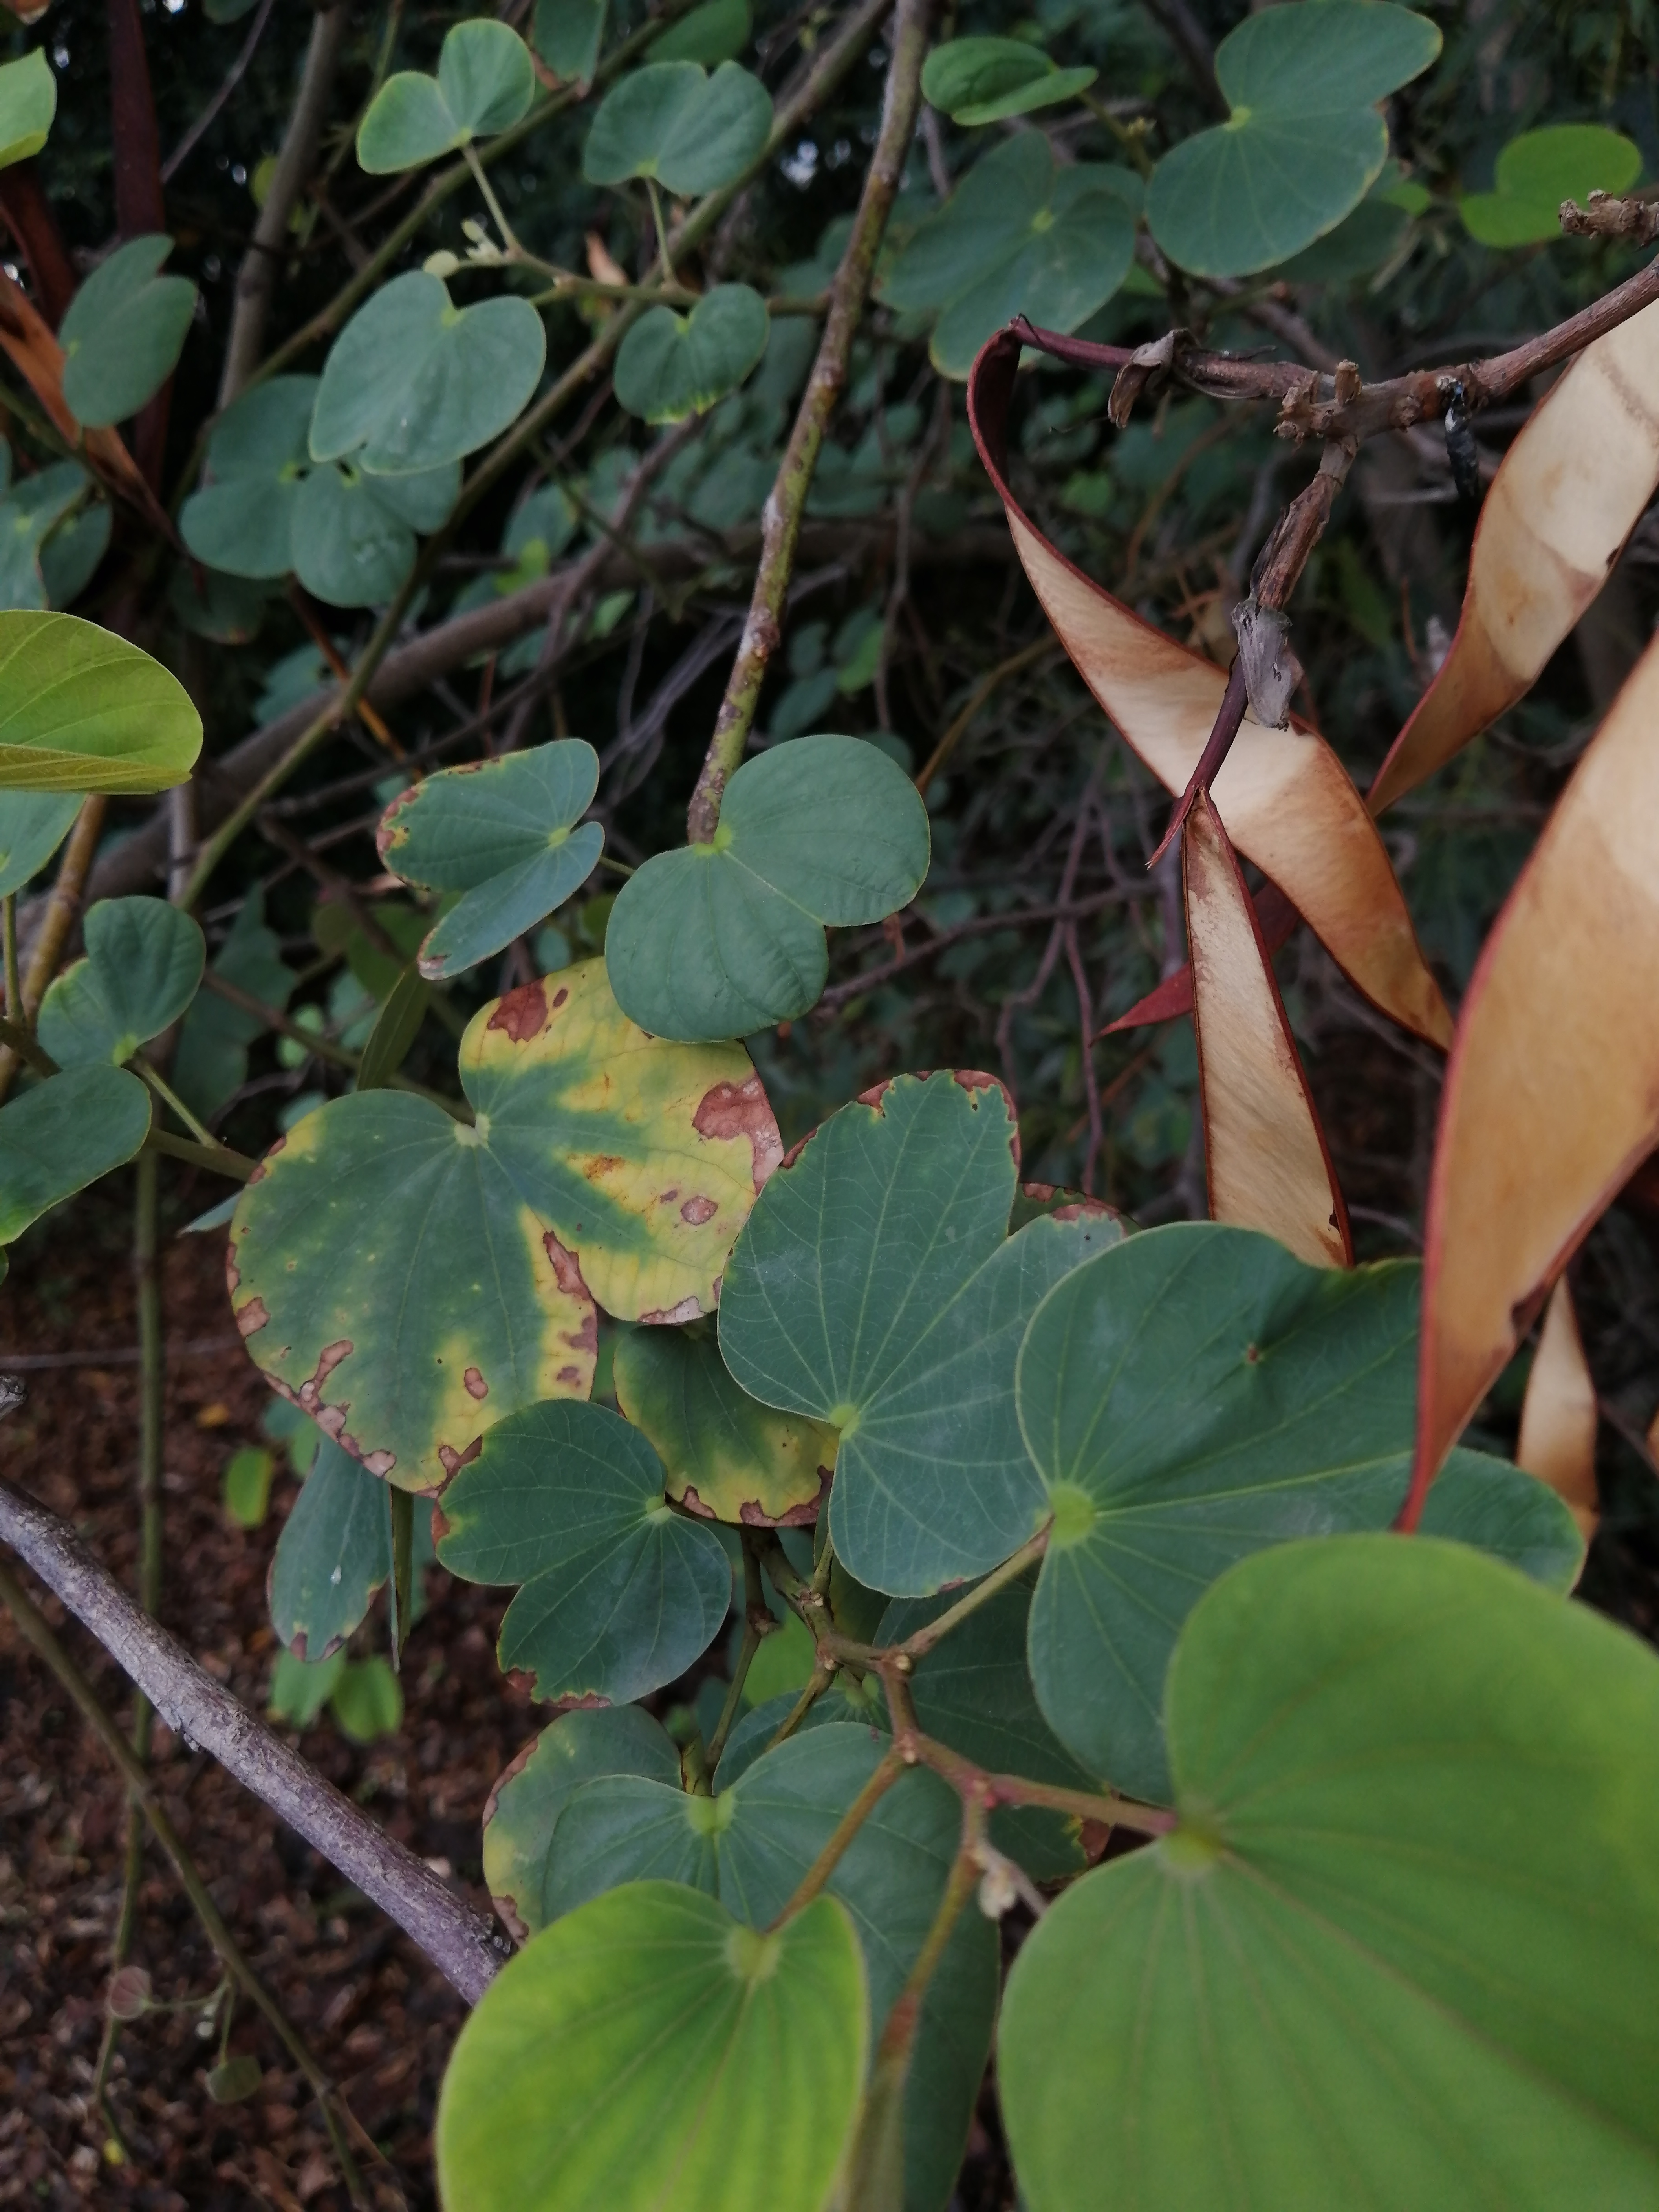healthy: (598, 723, 945, 1052)
nothealthy: (211, 930, 795, 1493), (718, 1066, 1152, 1601), (410, 1392, 746, 1717), (357, 711, 617, 988)
